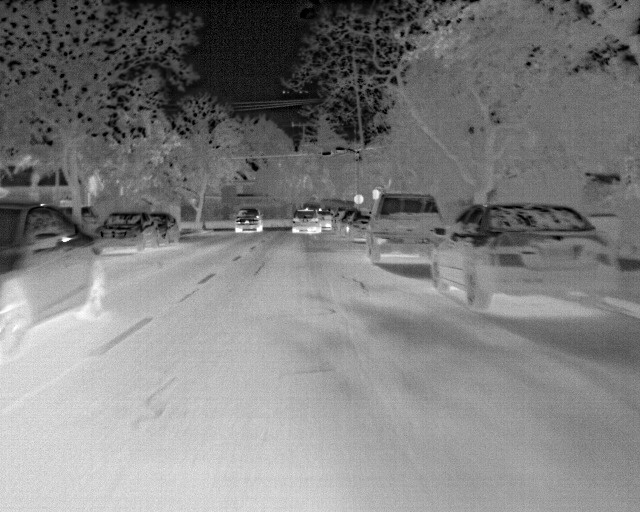vehicle: (431, 202, 625, 310), (1, 193, 110, 349), (367, 192, 446, 264), (98, 208, 157, 260), (289, 206, 328, 238), (232, 204, 267, 239), (345, 211, 373, 239)
